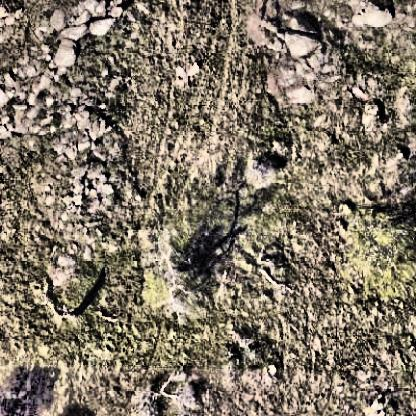tree-top: (338, 203, 416, 305)
